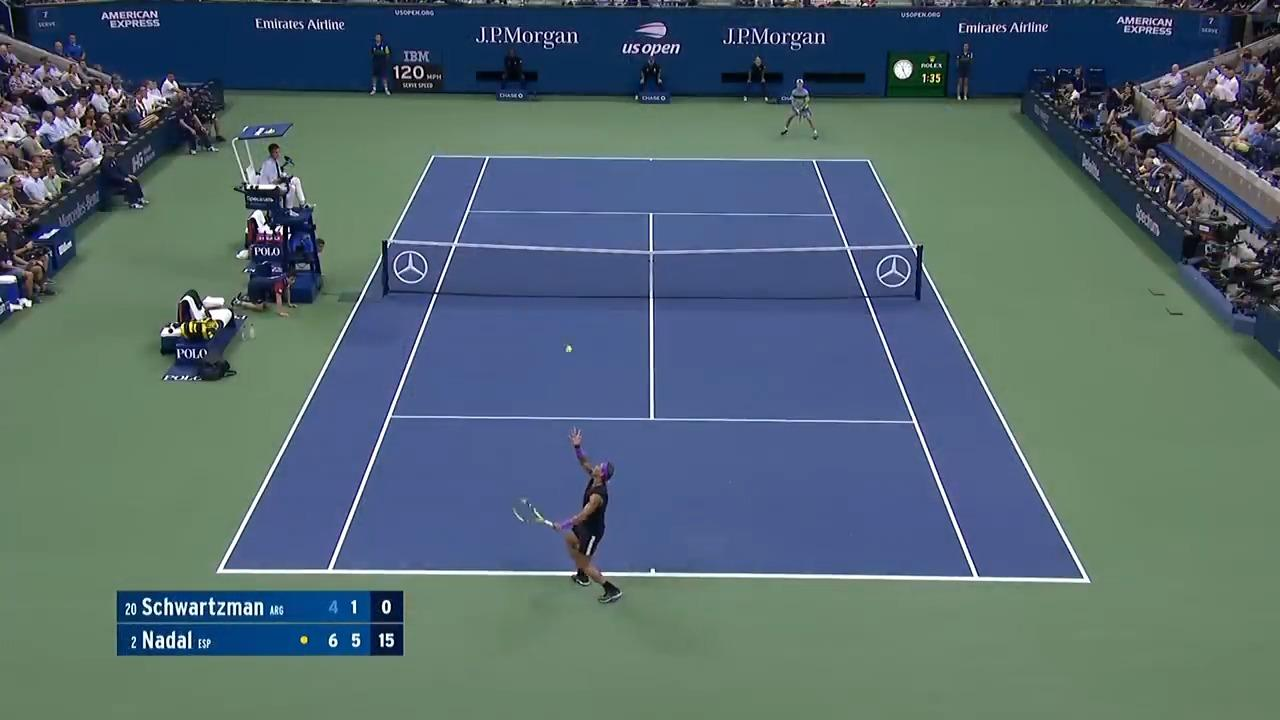tennis ball: (562, 341, 574, 354)
tennis racket: (512, 495, 558, 530)
